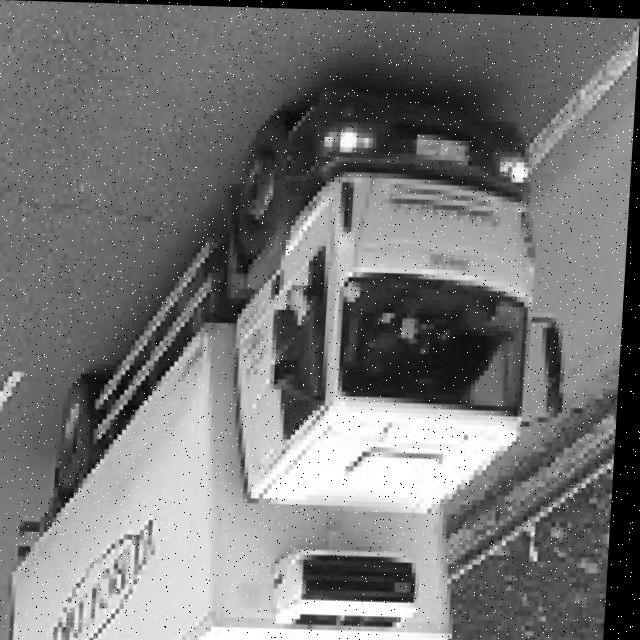truck: (204, 84, 579, 534)
